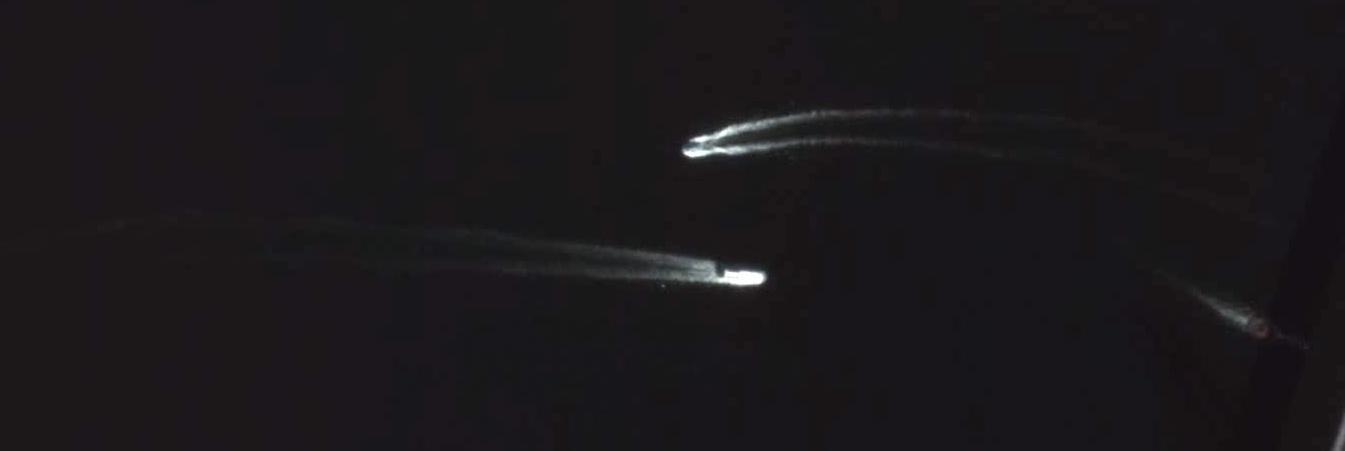person: (724, 269, 766, 286), (1246, 318, 1275, 340), (680, 141, 704, 152)
